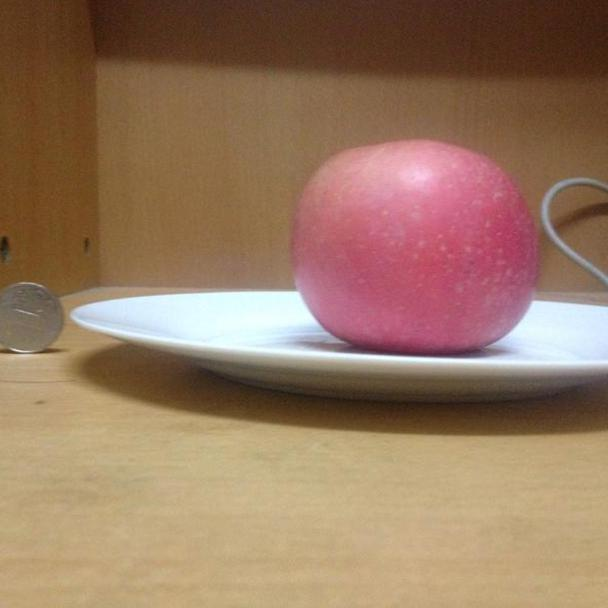apple: (289, 138, 540, 353)
